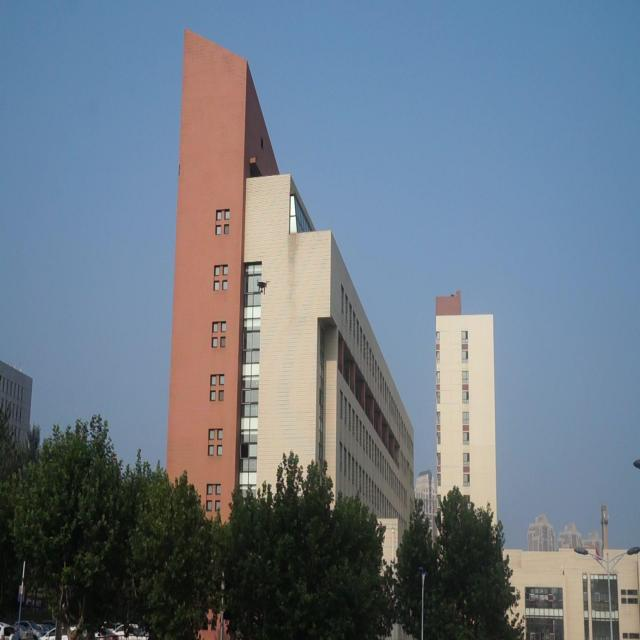UAV: (256, 279, 271, 295)
